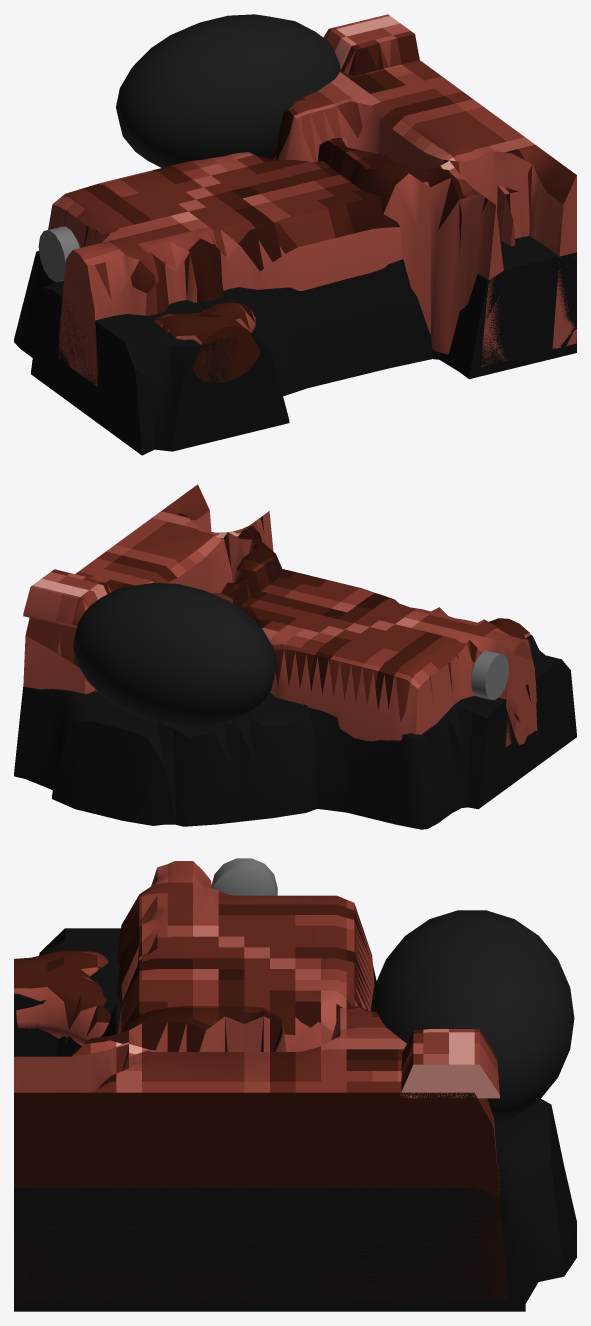
File: deli_boss_3.glb
3 views of the same model, one above another, from view 1: azimuth 30°, elevation 25°; view 2: azimuth 150°, elevation 25°; view 3: azimuth 270°, elevation 25° (orthographic). The views are drawn at different scales.
Visible parts, largest first — view 1: deli_boss_3_core, deli_boss_3_beam, deli_boss_3_frame, deli_boss_3_hump, deli_boss_3_claw, deli_boss_3_plate, deli_boss_3_bend, deli_boss_3_pin; view 2: deli_boss_3_core, deli_boss_3_beam, deli_boss_3_hump, deli_boss_3_frame, deli_boss_3_plate, deli_boss_3_pin, deli_boss_3_bend, deli_boss_3_claw; view 3: deli_boss_3_frame, deli_boss_3_core, deli_boss_3_beam, deli_boss_3_hump, deli_boss_3_claw, deli_boss_3_plate, deli_boss_3_pin.
Boxes of the visible parts, <box> form: deli_boss_3_core: <box>14,236,576,455</box>; deli_boss_3_beam: <box>48,146,402,386</box>; deli_boss_3_frame: <box>275,60,576,366</box>; deli_boss_3_hump: <box>116,14,340,167</box>; deli_boss_3_claw: <box>154,302,259,383</box>; deli_boss_3_plate: <box>323,14,419,75</box>; deli_boss_3_bend: <box>58,253,97,375</box>; deli_boss_3_pin: <box>38,226,80,282</box>; deli_boss_3_core: <box>14,635,576,829</box>; deli_boss_3_beam: <box>240,569,537,745</box>; deli_boss_3_hump: <box>73,582,276,727</box>; deli_boss_3_frame: <box>23,484,282,693</box>; deli_boss_3_plate: <box>23,569,111,628</box>; deli_boss_3_pin: <box>471,650,508,700</box>; deli_boss_3_bend: <box>498,642,536,746</box>; deli_boss_3_claw: <box>489,618,530,639</box>; deli_boss_3_frame: <box>14,1006,508,1300</box>; deli_boss_3_core: <box>14,928,576,1311</box>; deli_boss_3_beam: <box>117,861,374,1051</box>; deli_boss_3_hump: <box>370,910,574,1123</box>; deli_boss_3_claw: <box>14,950,111,1045</box>; deli_boss_3_plate: <box>400,1029,499,1098</box>; deli_boss_3_pin: <box>211,858,277,895</box>.
Size of the model in its own units: 24 by 12.22 by 22.
